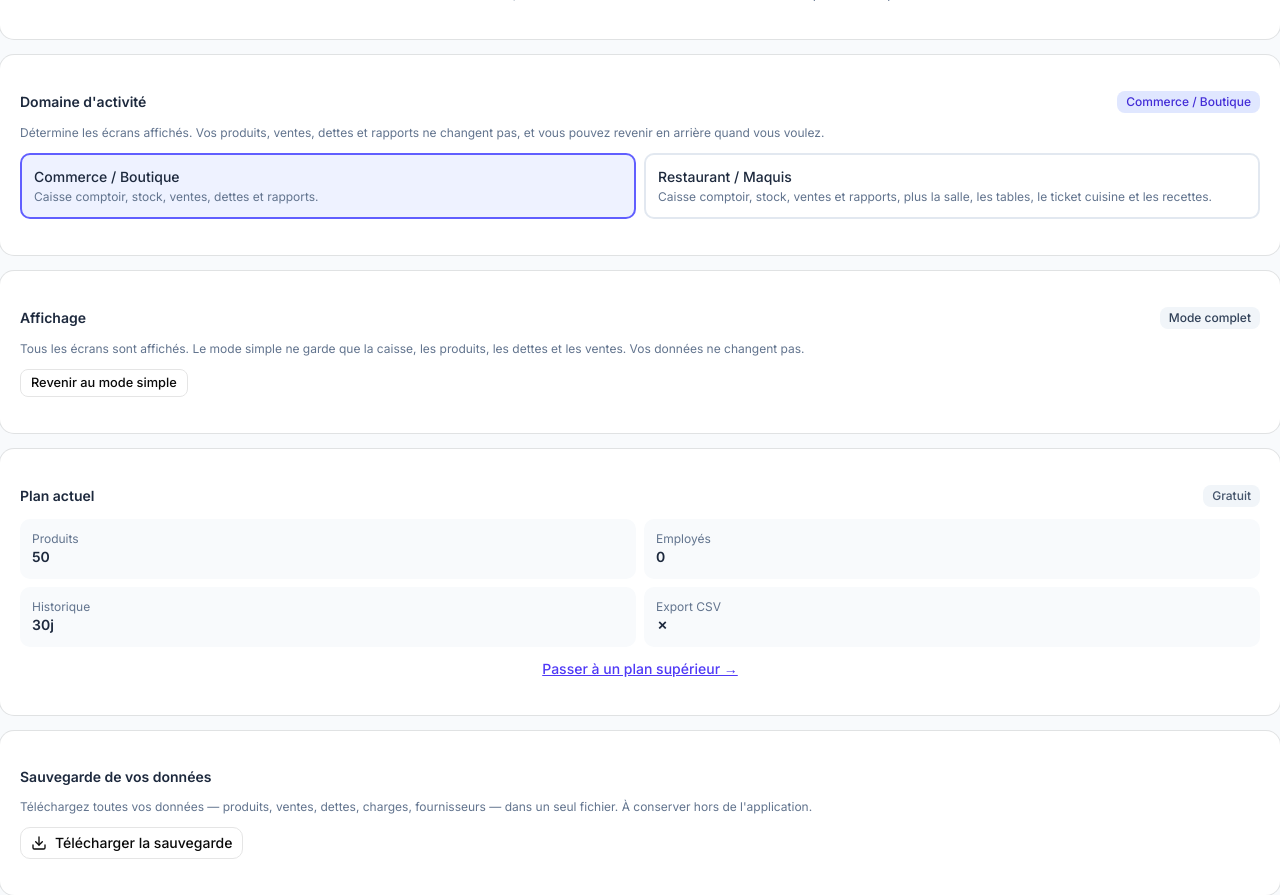
Test case: SettingsModule — sauvegarde › affiche l’erreur de sauvegarde
(page scrolled)
Click the button "Télécharger la sauvegarde" at (132, 843), box [20,827,243,859]
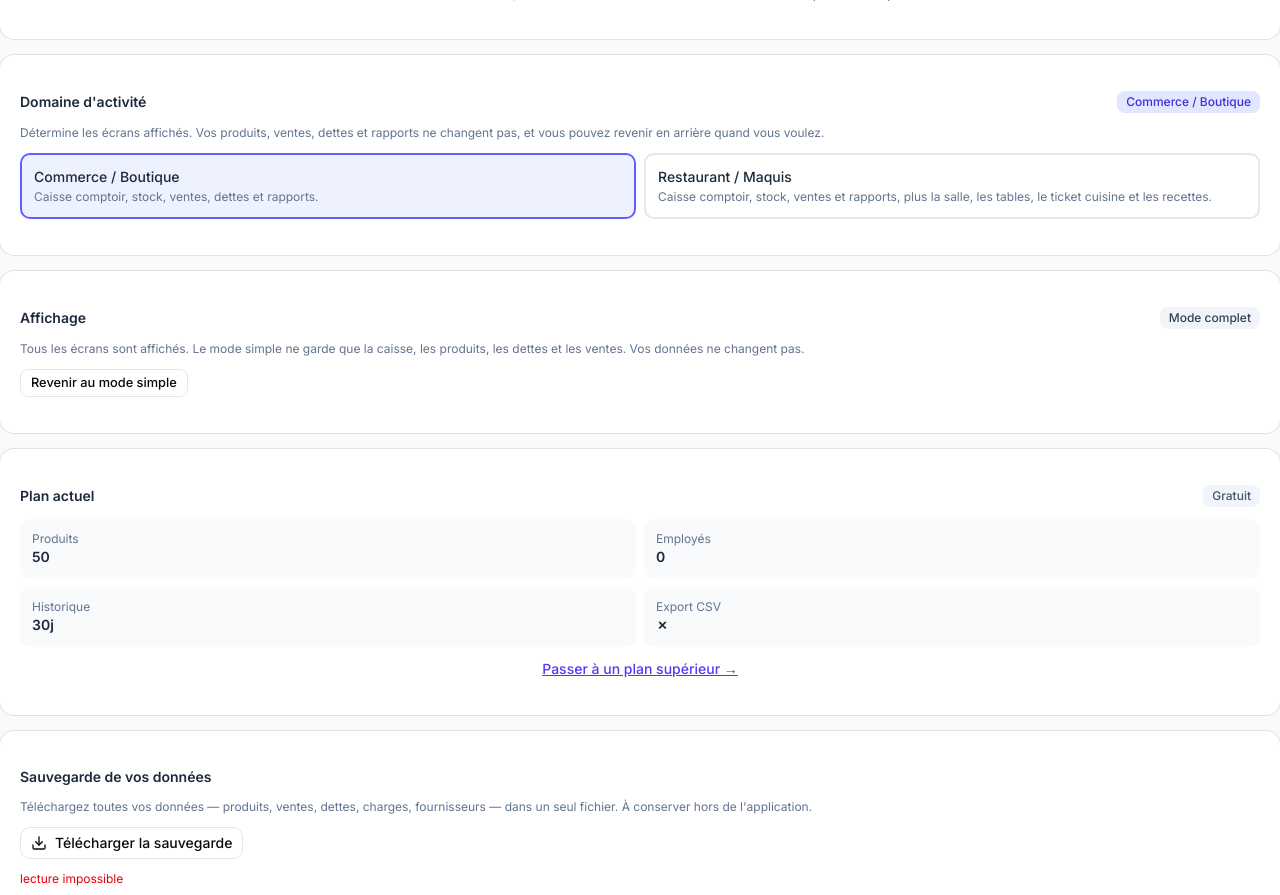
Expected: the text "lecture impossible" is shown, [20,871,123,886]
